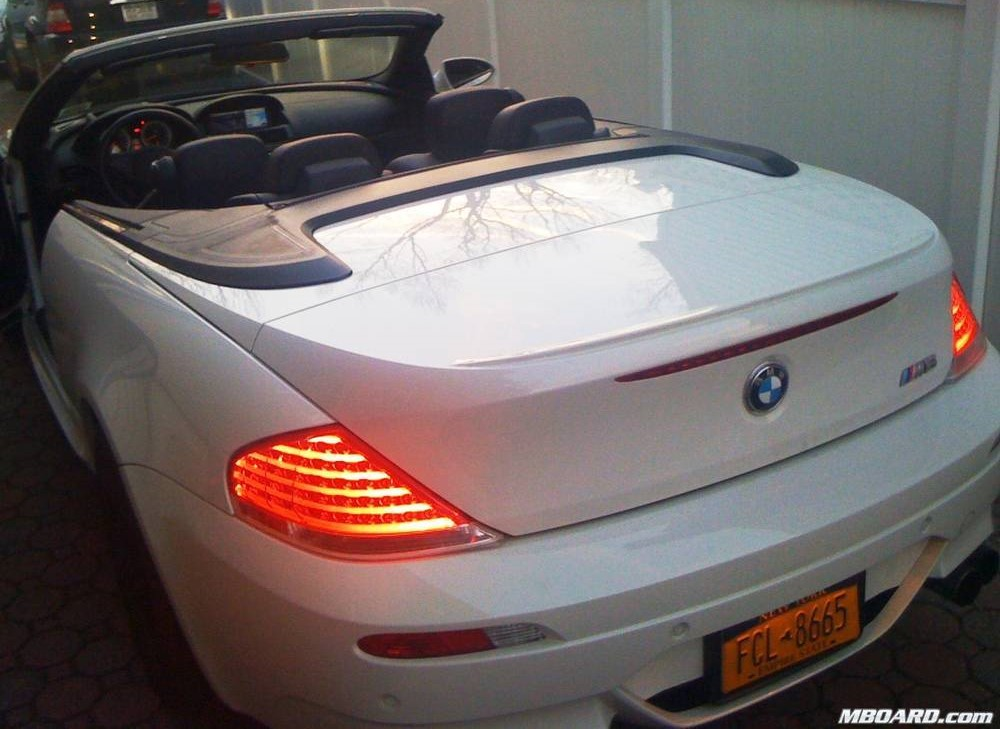vehicle: (2, 12, 999, 729)
